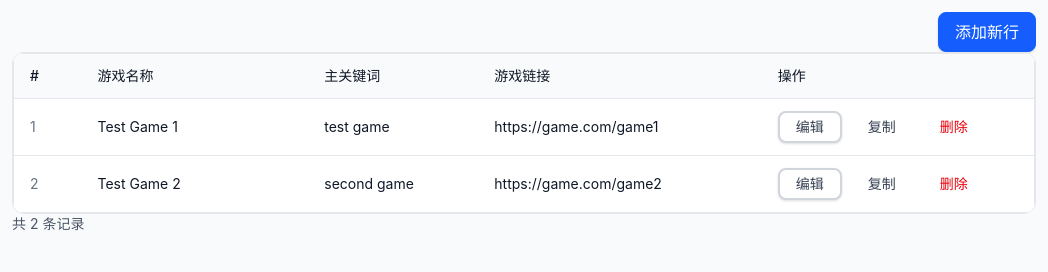
Test: EditableTable组件 › 应该显示验证错误
Click the button "编辑" in the row of "Test Game 1" at {"x": 810, "y": 127}, box [778, 111, 842, 143]
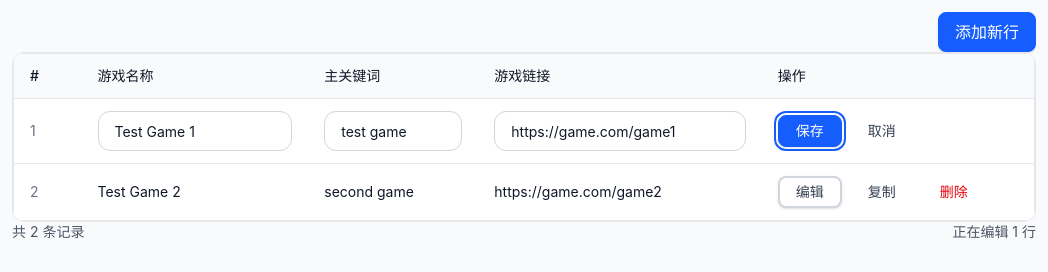
Clear the 1st field showing "Test Game 1" at {"x": 195, "y": 131}, box [98, 111, 292, 151]
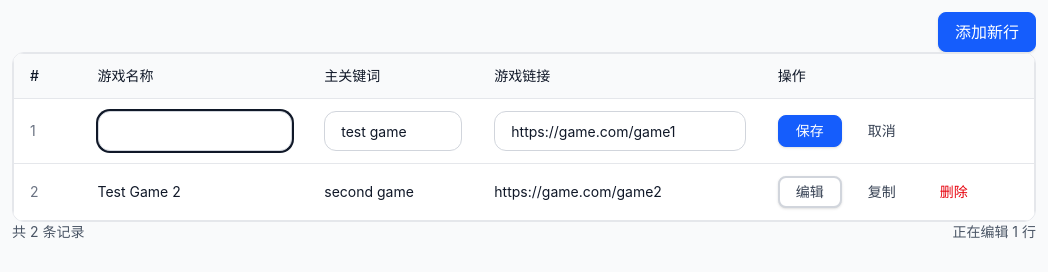
Click the button "保存" at {"x": 810, "y": 131}, box [778, 115, 842, 147]
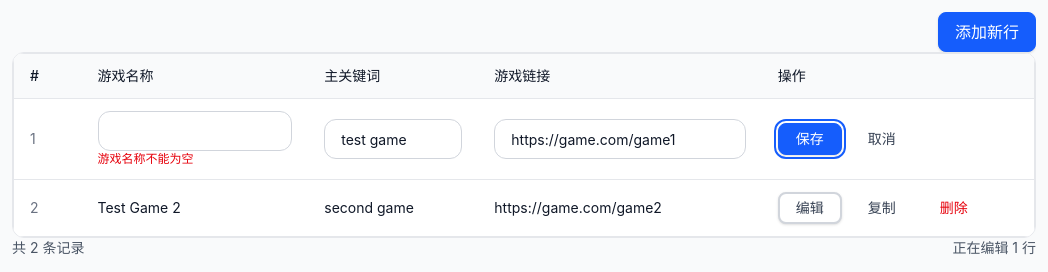
Expected: the text "游戏名称不能为空" is shown, [98, 151, 194, 166]
